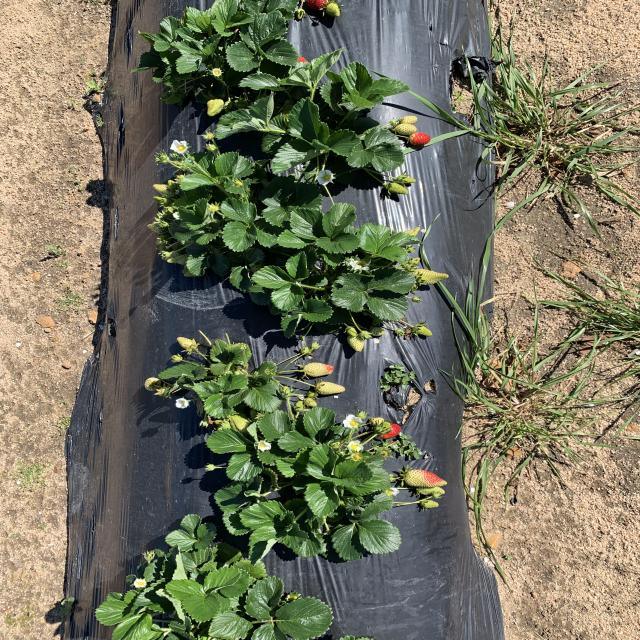unripe: (376, 421, 402, 439), (305, 0, 334, 13), (409, 132, 432, 146)
